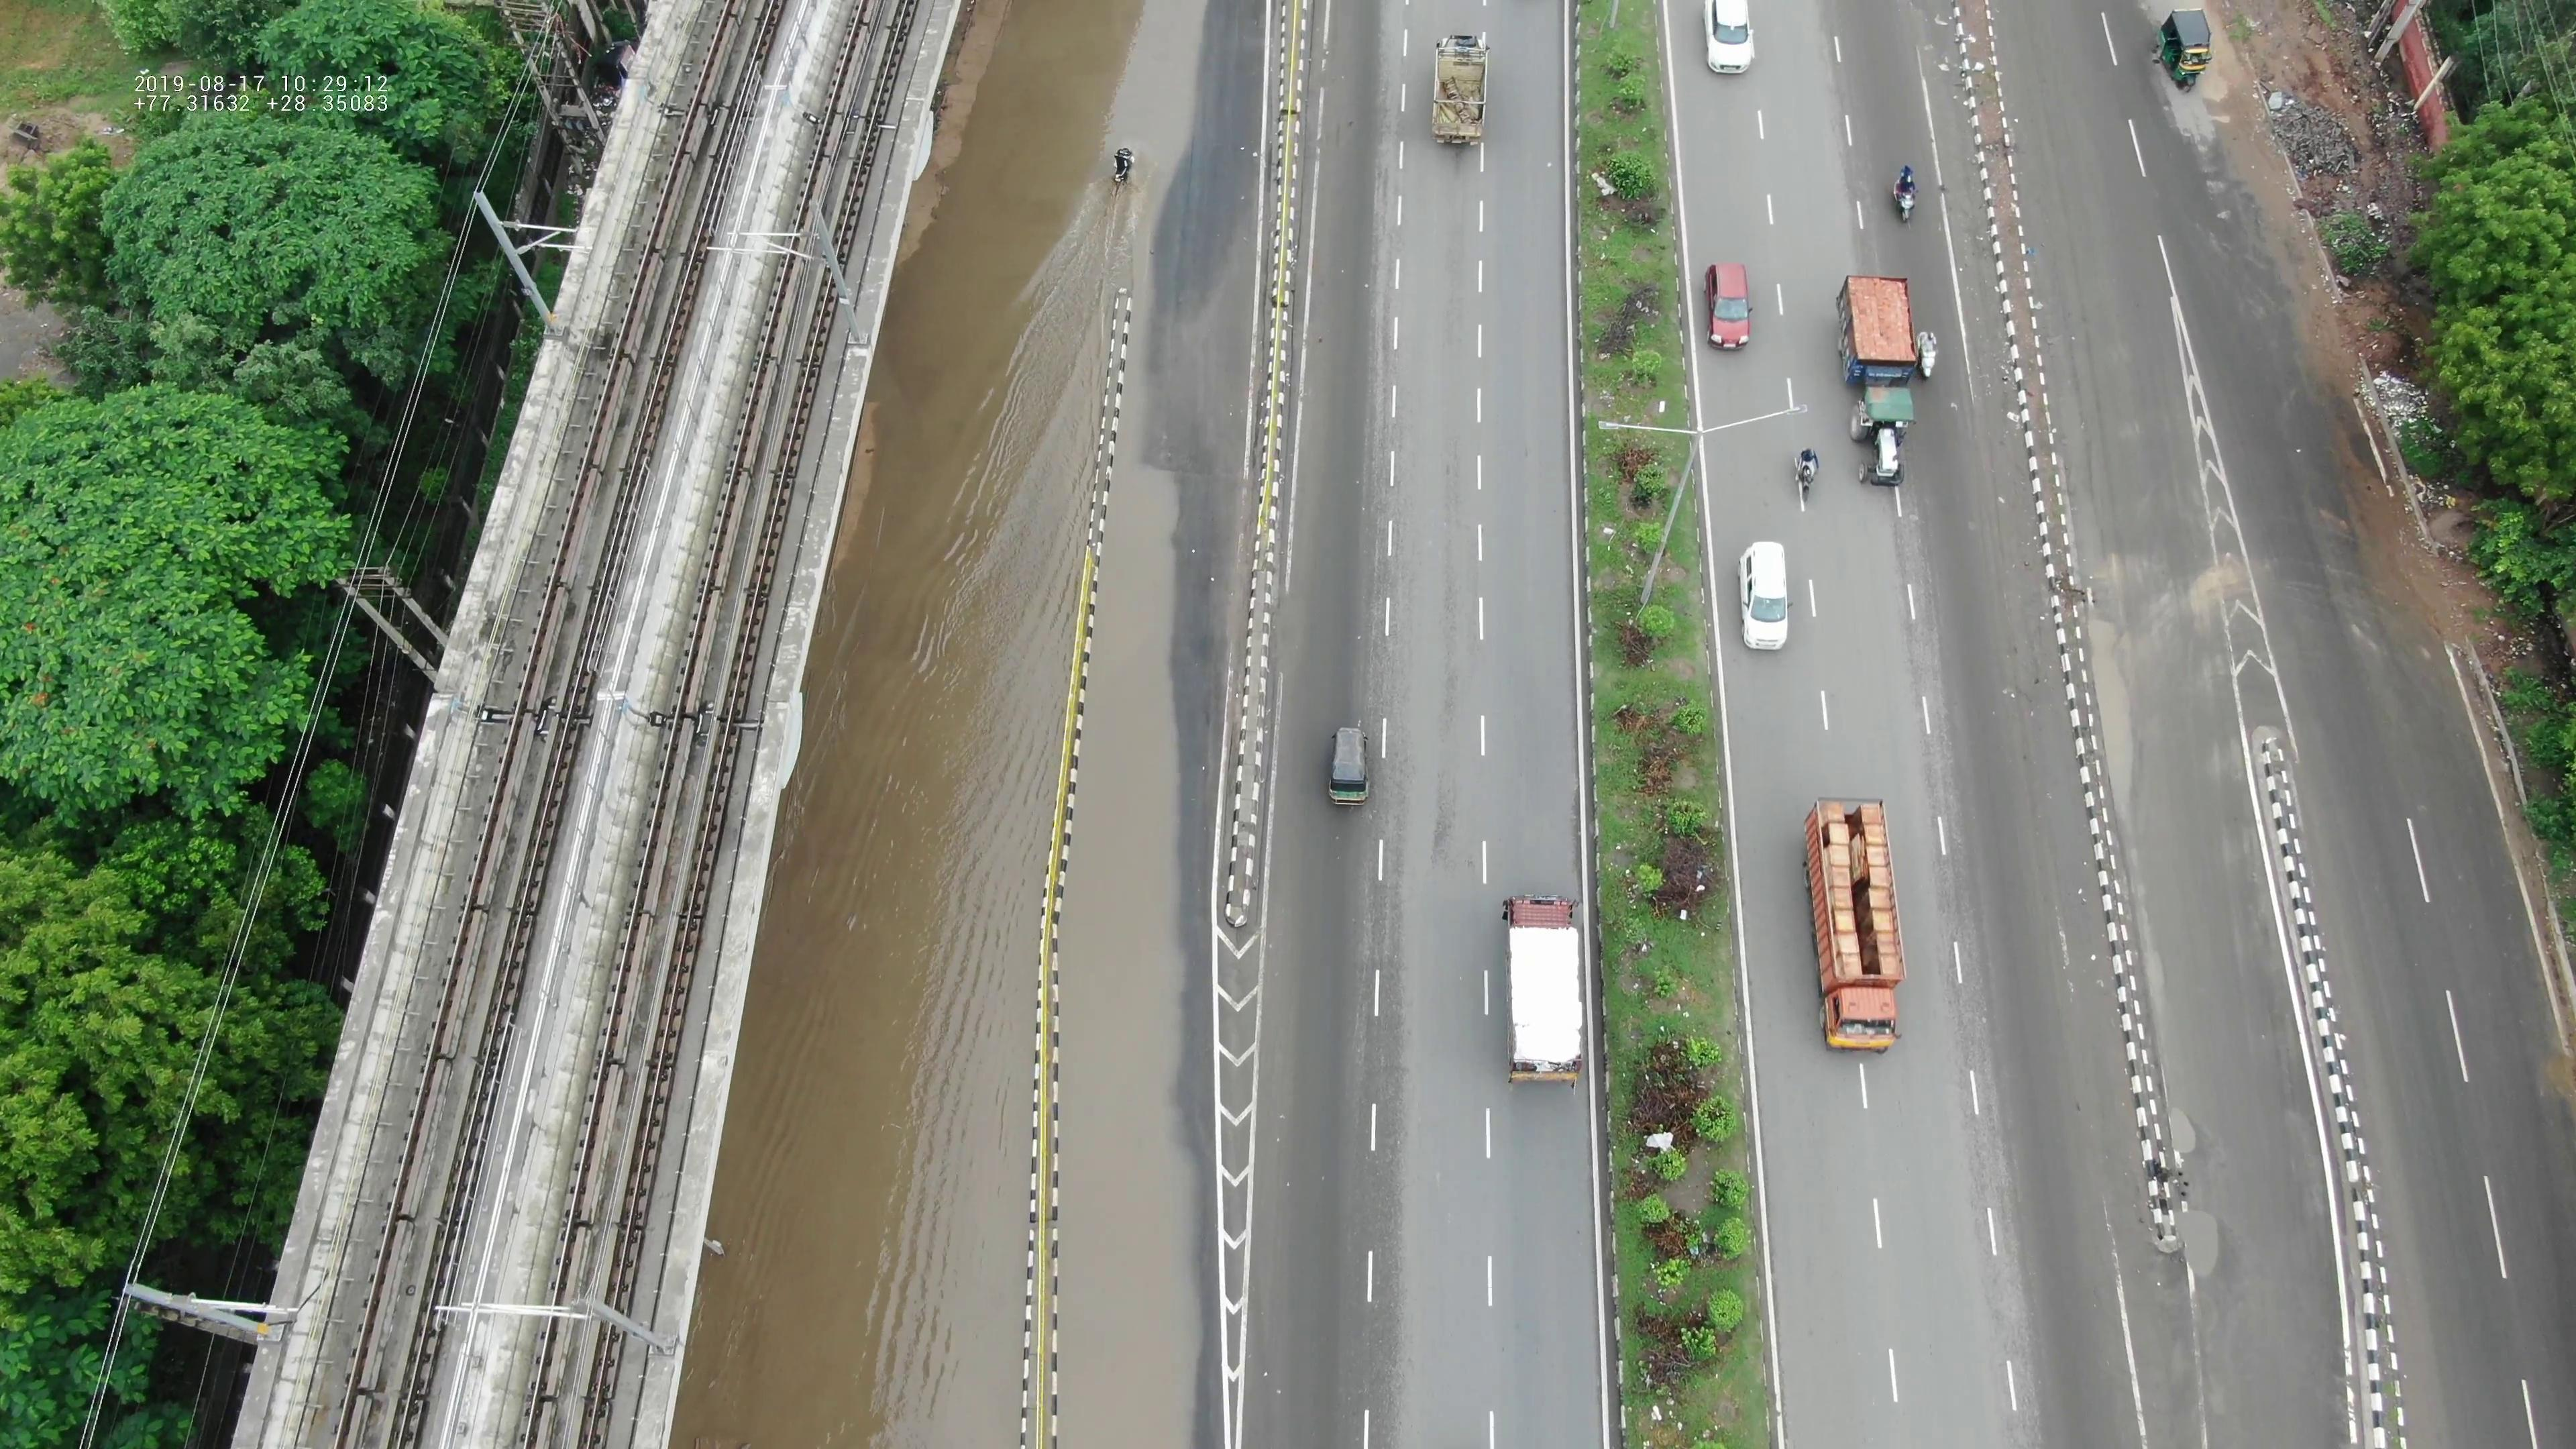Potholes: (2164, 1192, 2242, 1322), (2167, 1095, 2217, 1169)
Waterlogging: (640, 725, 1215, 1435), (778, 2, 1263, 715)
